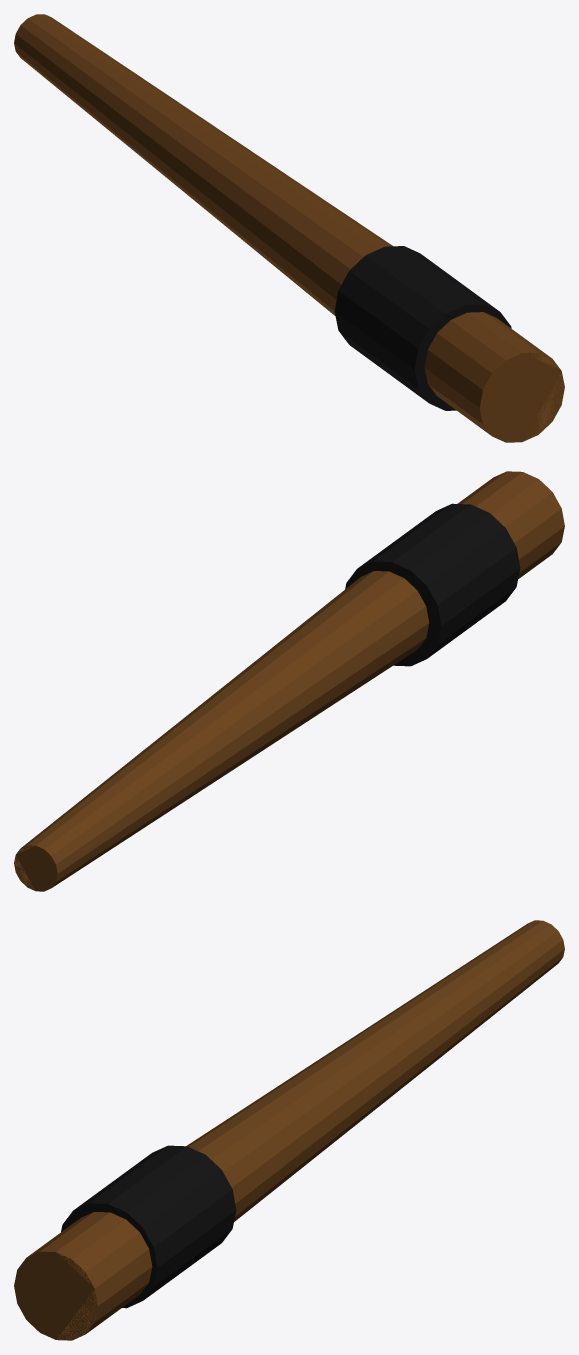
Rendered from Torch.fbx.
3 renders of one model, top to bottom at view 1: azimuth 30°, elevation 25°; view 2: azimuth 150°, elevation 25°; view 3: azimuth 330°, elevation 25°, orthographic.
Visible parts, largest first — view 1: Circle.001, Cylinder; view 2: Circle.001, Cylinder; view 3: Circle.001, Cylinder.
Part boxes in pixels (x1,y1,x2,y2): Circle.001: (14,14,564,442); Cylinder: (334,246,511,410); Circle.001: (14,471,564,891); Cylinder: (345,503,520,666); Circle.001: (14,920,564,1340); Cylinder: (61,1145,236,1308).
Size of the model in its own units: 6.45 by 6.45 by 54.59.
